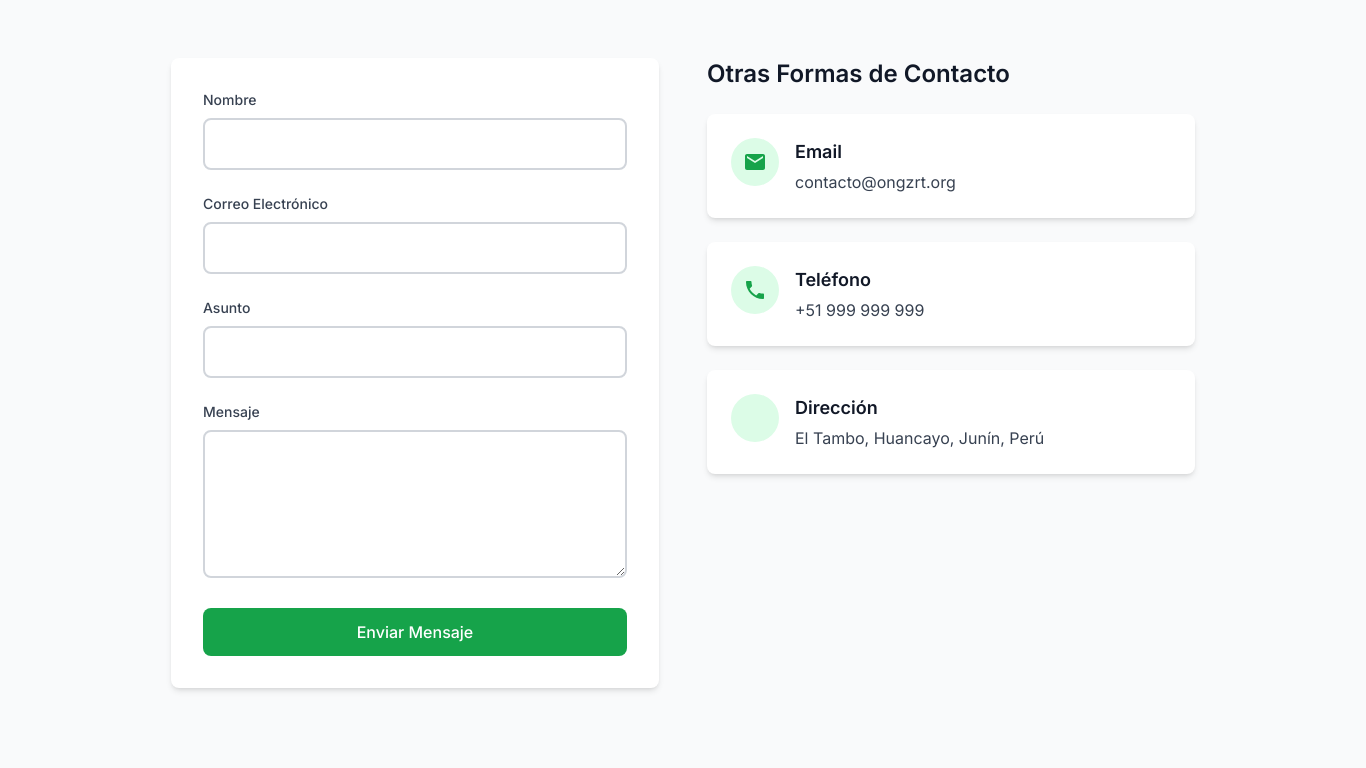
ContactSection › should show validation errors on empty submit
(page scrolled)
What coordinates should you click on to do the following:
click the button "Enviar Mensaje"
I would click on:
 (415, 632)
Its box is [203, 608, 627, 656].
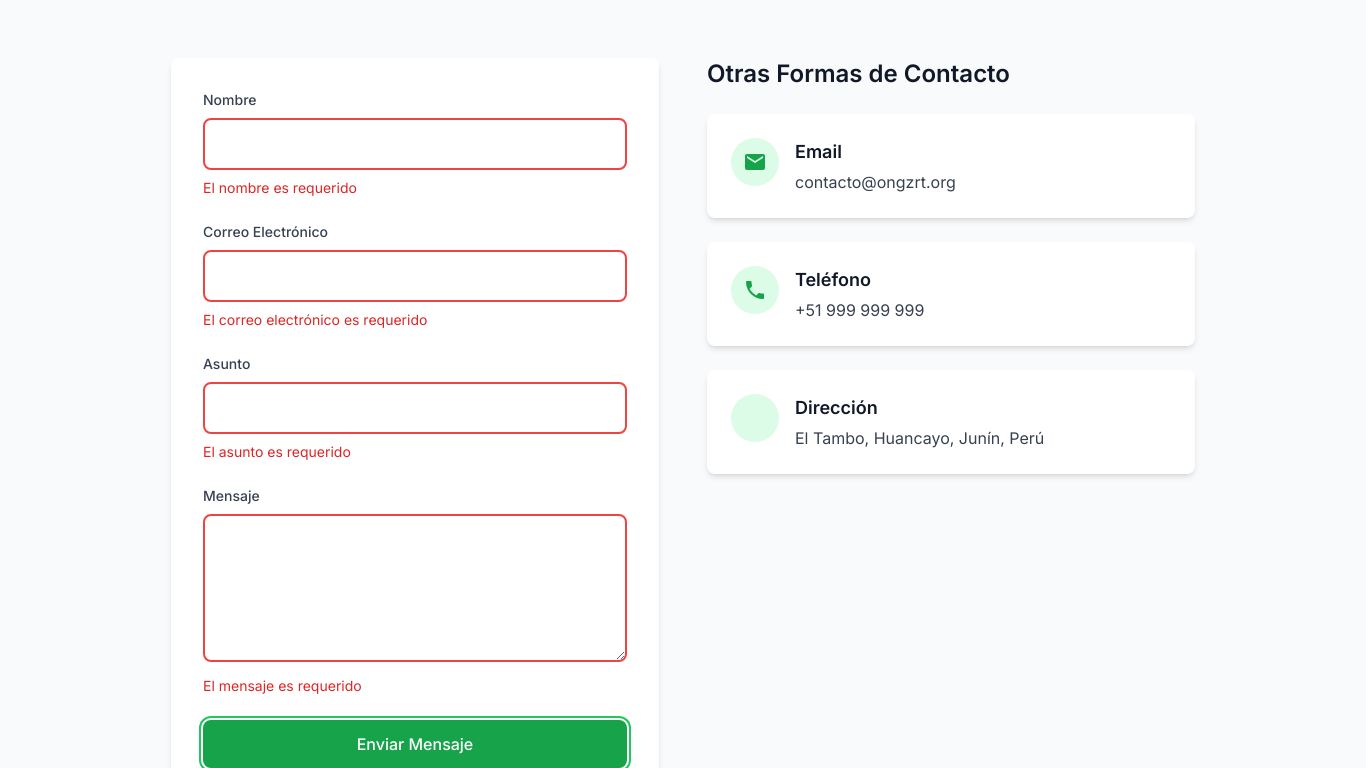
Check: the text "El nombre es requerido" is shown, box [203, 179, 357, 196]
Check: the text "El correo electrónico es requerido" is shown, box [203, 311, 427, 328]
Check: the text "El asunto es requerido" is shown, box [203, 443, 351, 460]
